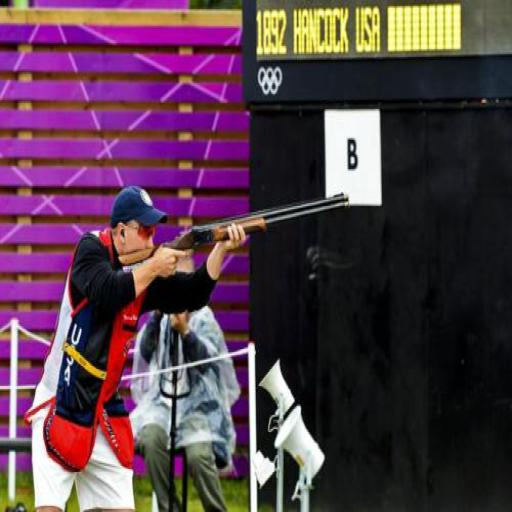shooting: (22, 183, 251, 510)
